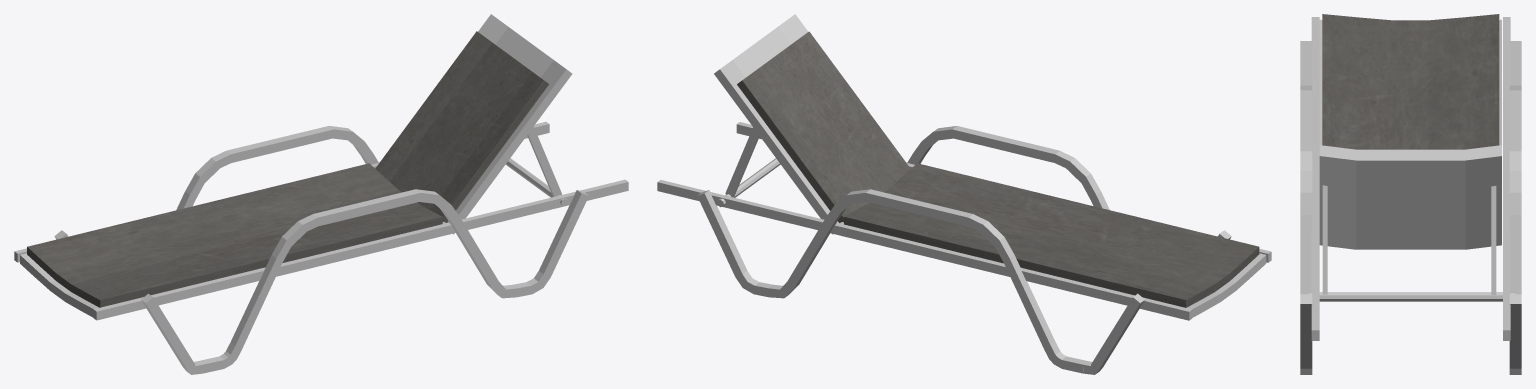
File: PoolChairWithCushionSelectedInOrder.fbx
3 renders of one model, left to right at view 1: azimuth 30°, elevation 25°; view 2: azimuth 150°, elevation 25°; view 3: azimuth 270°, elevation 25°, orthographic. The views are drawn at different scales.
Visible parts, largest first — view 1: Cylinder.003; view 2: Cylinder.003; view 3: Cylinder.003.
Boxes of the visible parts, x1,y1,x2,y2 form: Cylinder.003: (14, 14, 628, 374); Cylinder.003: (657, 14, 1271, 374); Cylinder.003: (1300, 14, 1521, 374).
Size of the model in its own units: 213 by 79.95 by 63.46.
